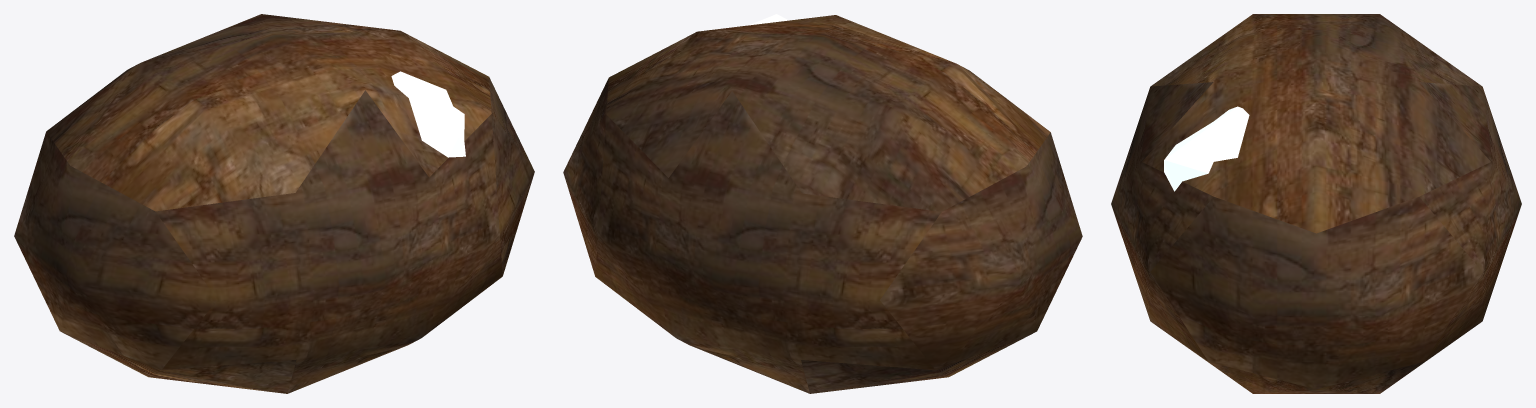
Rendered from prop_ore_vein.glb.
The picture shows the model from 3 angles, left to right: view 1: azimuth 30°, elevation 25°; view 2: azimuth 150°, elevation 25°; view 3: azimuth 270°, elevation 25°; orthographic projection.
Visible parts, largest first — view 1: PROP_OreVein; view 2: PROP_OreVein; view 3: PROP_OreVein.
Boxes of the visible parts, x1,y1,x2,y2 form: PROP_OreVein: [14, 14, 534, 393]; PROP_OreVein: [563, 14, 1082, 393]; PROP_OreVein: [1111, 14, 1521, 393].
Size of the model in its own units: 1.32 by 0.928 by 1.04.
Materials: 2 (1 with a texture image).
